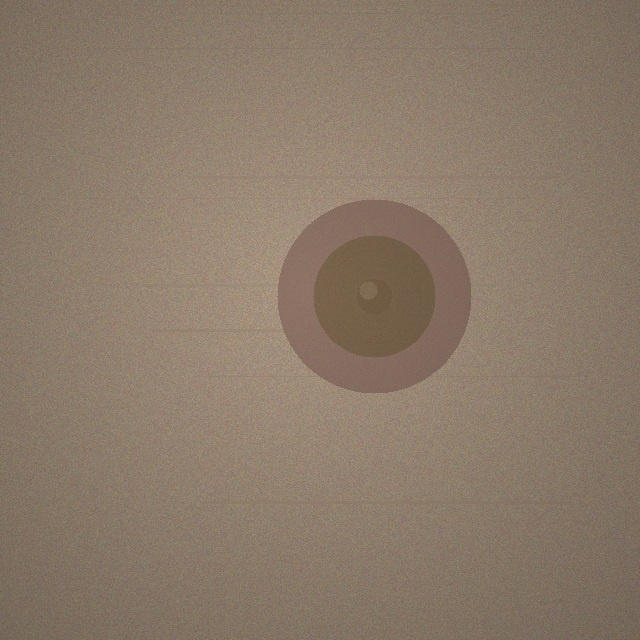good: (277, 199, 471, 393)
